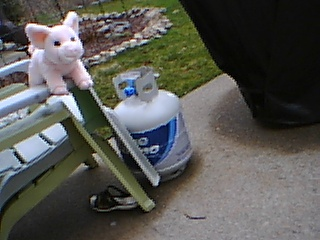piggy: (24, 10, 94, 96)
